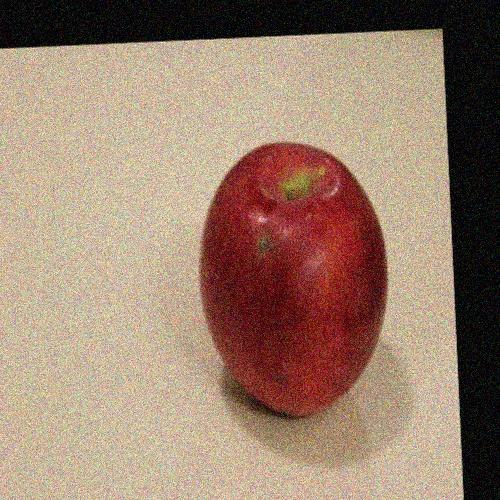red apple: (196, 139, 388, 419)
